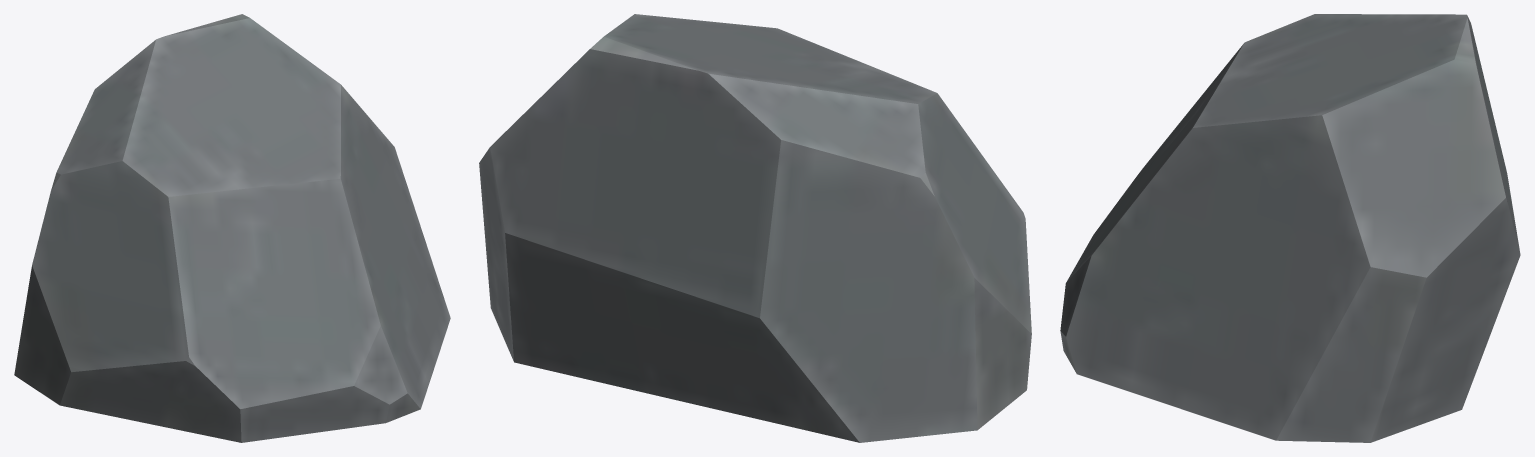
Rendered from rock-1.glb.
The picture shows the model from 3 angles, left to right: view 1: azimuth 30°, elevation 25°; view 2: azimuth 150°, elevation 25°; view 3: azimuth 270°, elevation 25°; orthographic projection. The views are drawn at different scales.
Parts seen in each view (by area): view 1: model; view 2: model; view 3: model.
Part boxes in pixels (x1,y1,x2,y2): model: (14,14,450,442); model: (479,14,1031,442); model: (1060,14,1520,442).
Size of the model in its own units: 0.4642 by 0.3086 by 0.4115.
Materials: 1 (1 with a texture image).
